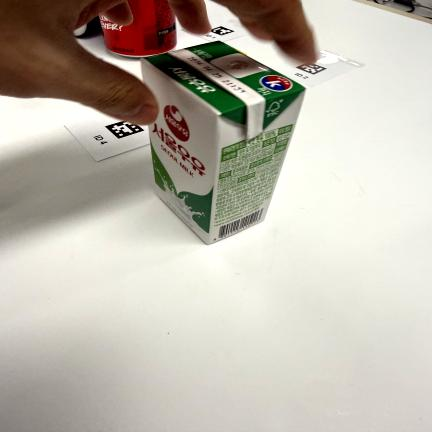milk_green: (142, 42, 305, 244)
